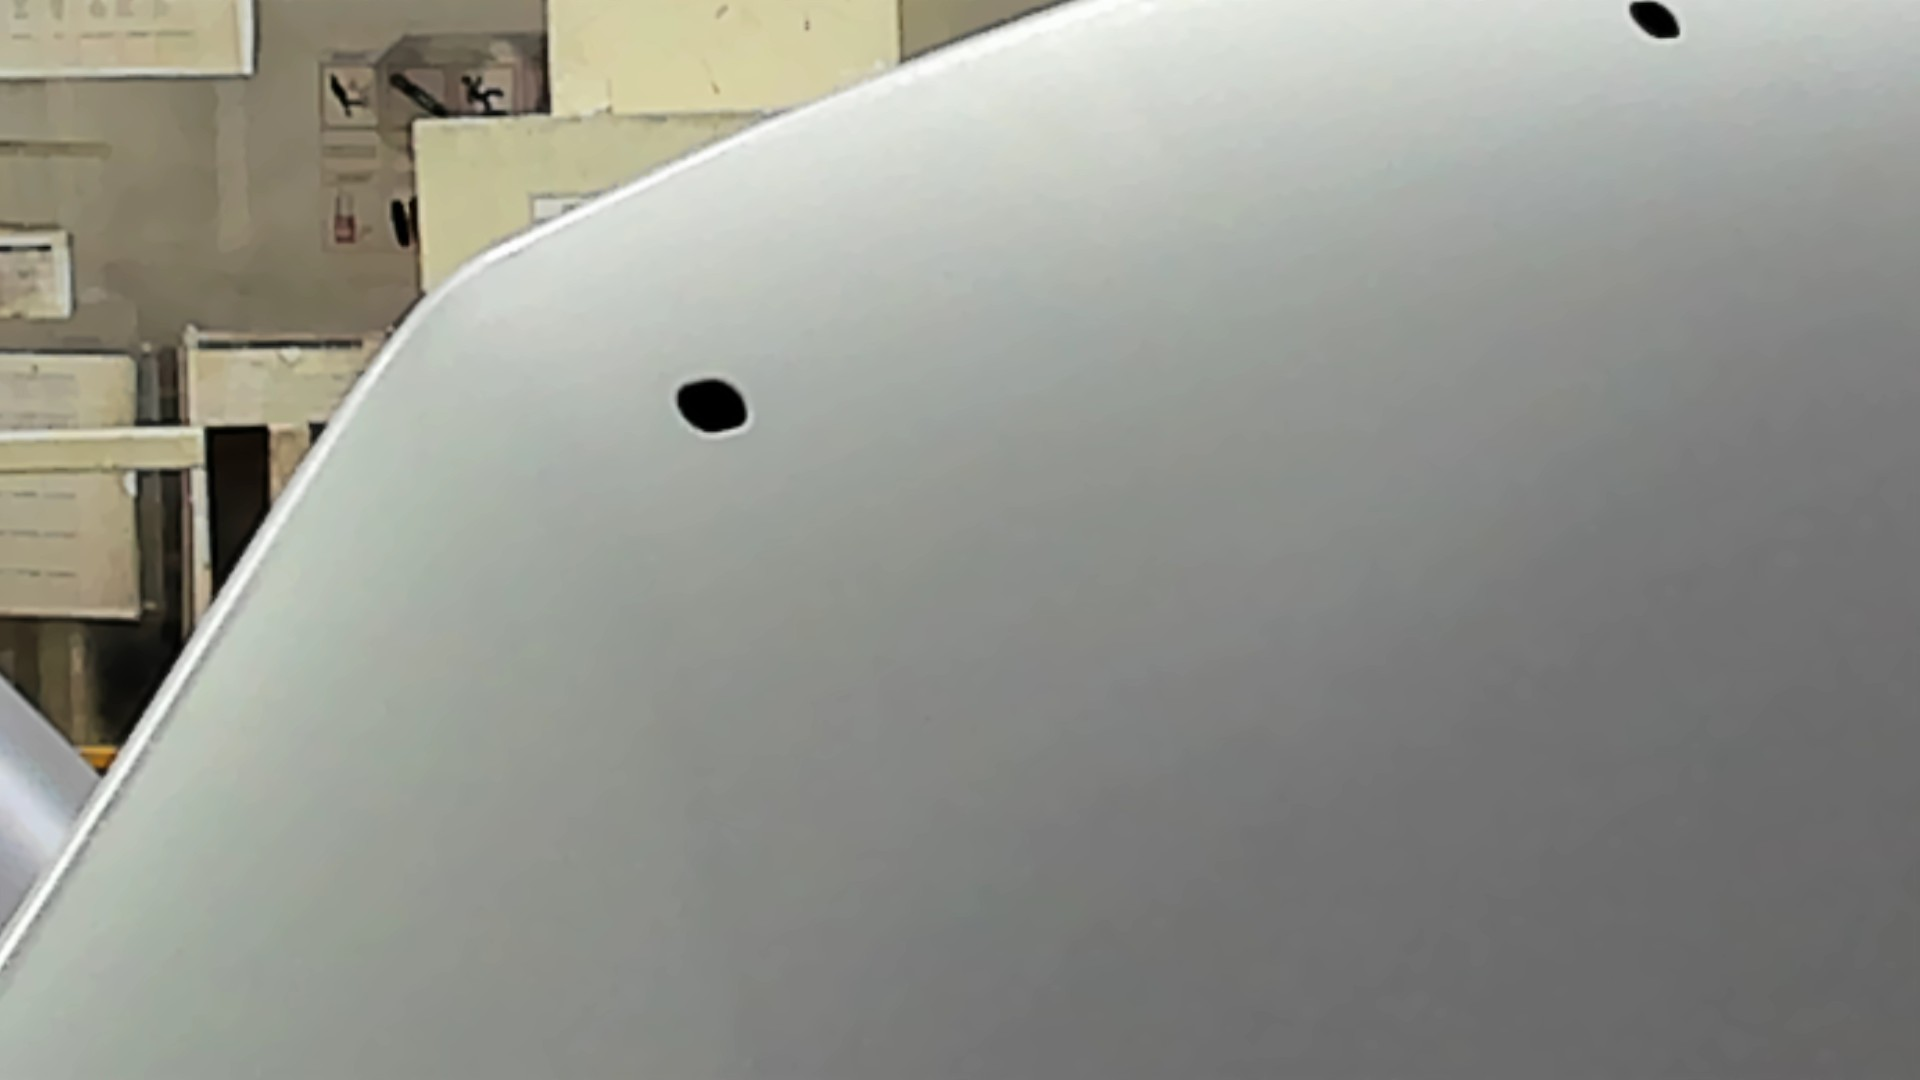amorfo: (666, 373, 760, 438), (1621, 1, 1684, 46)
